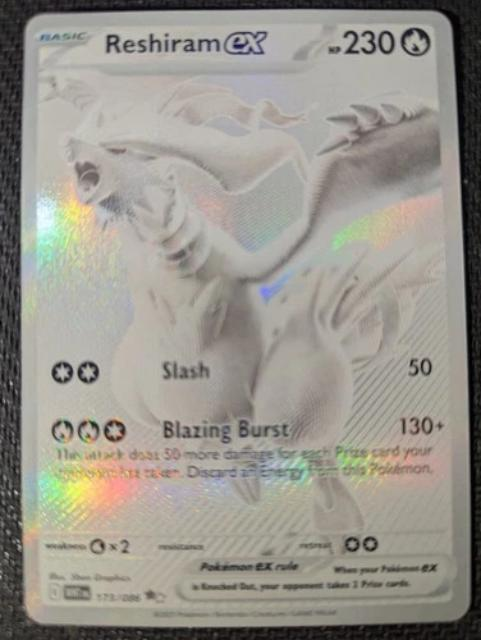Card: (15, 3, 473, 630)
Name: (99, 24, 275, 59)
